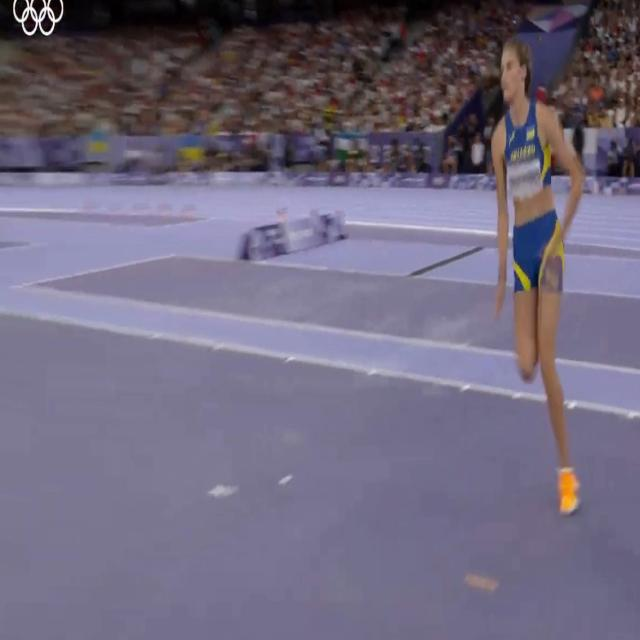run: (480, 31, 588, 516)
